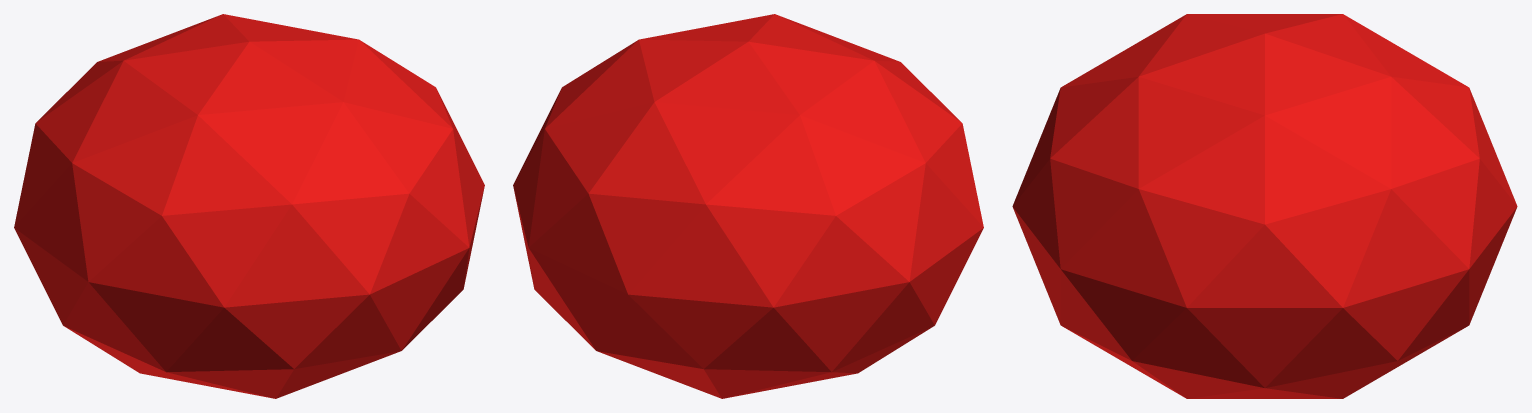
File: ruby.dae
3 views of the same model, side by side, from view 1: azimuth 30°, elevation 25°; view 2: azimuth 150°, elevation 25°; view 3: azimuth 270°, elevation 25° (orthographic). The views are drawn at different scales.
Visible parts, largest first — view 1: Icosphere; view 2: Icosphere; view 3: Icosphere.
Boxes of the visible parts, x1,y1,x2,y2 form: Icosphere: [14, 14, 484, 398]; Icosphere: [513, 14, 983, 398]; Icosphere: [1012, 14, 1517, 398].
Bounding box in the file's own units: 0.2782 × 0.2925 × 0.221.
